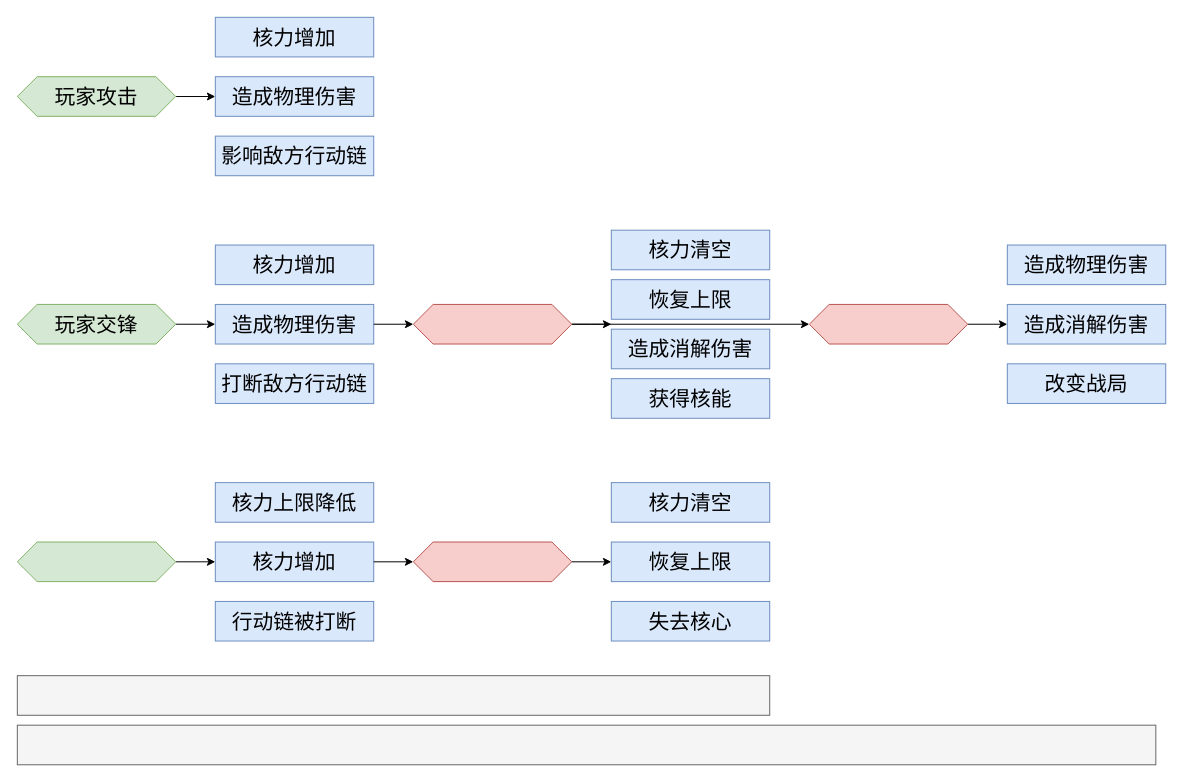
Some shapes in this 1183 by 782 pixel diagram are drawn without their labels. The shapes that lost their labels are listed below. From the top down, each one's box as (x1, y1, x2, y2) in pixels, then its label:
(412, 303, 572, 344): 释放爆发技
(808, 303, 968, 344): 释放特殊技
(16, 541, 176, 582): 玩家受击
(412, 541, 572, 582): 引力破碎
(16, 675, 770, 715): 战斗的小循环
(16, 724, 1156, 765): 战斗的大循环
